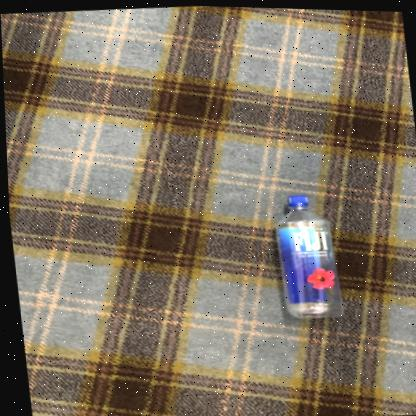Plastic: (275, 194, 342, 318)
